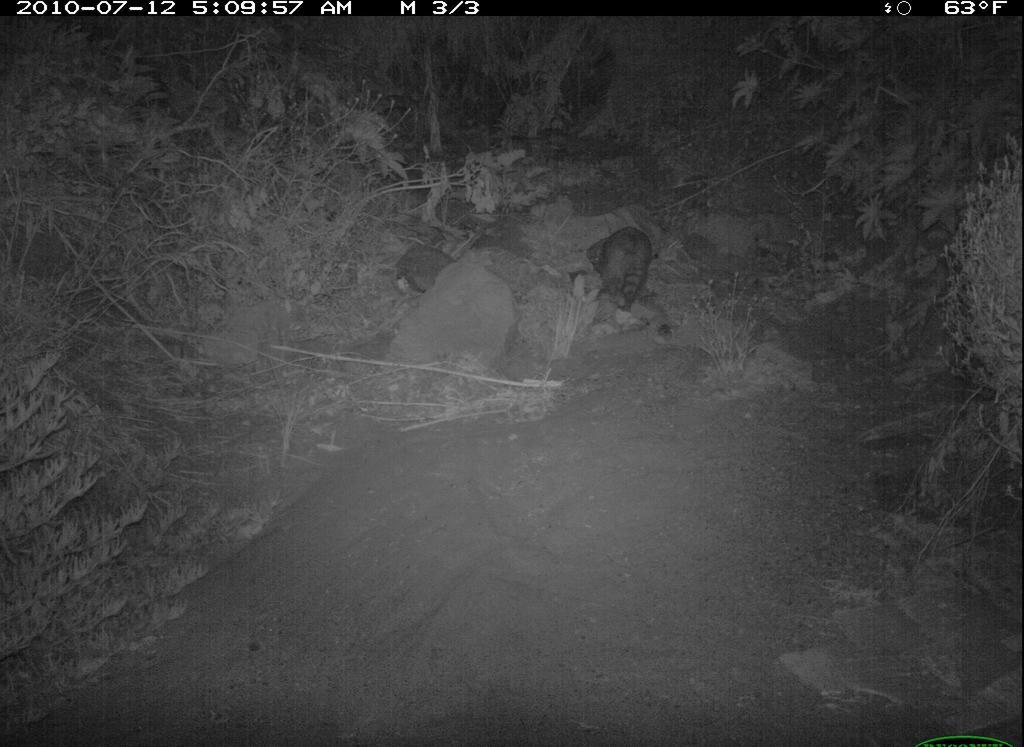raccoon: (571, 221, 662, 318)
